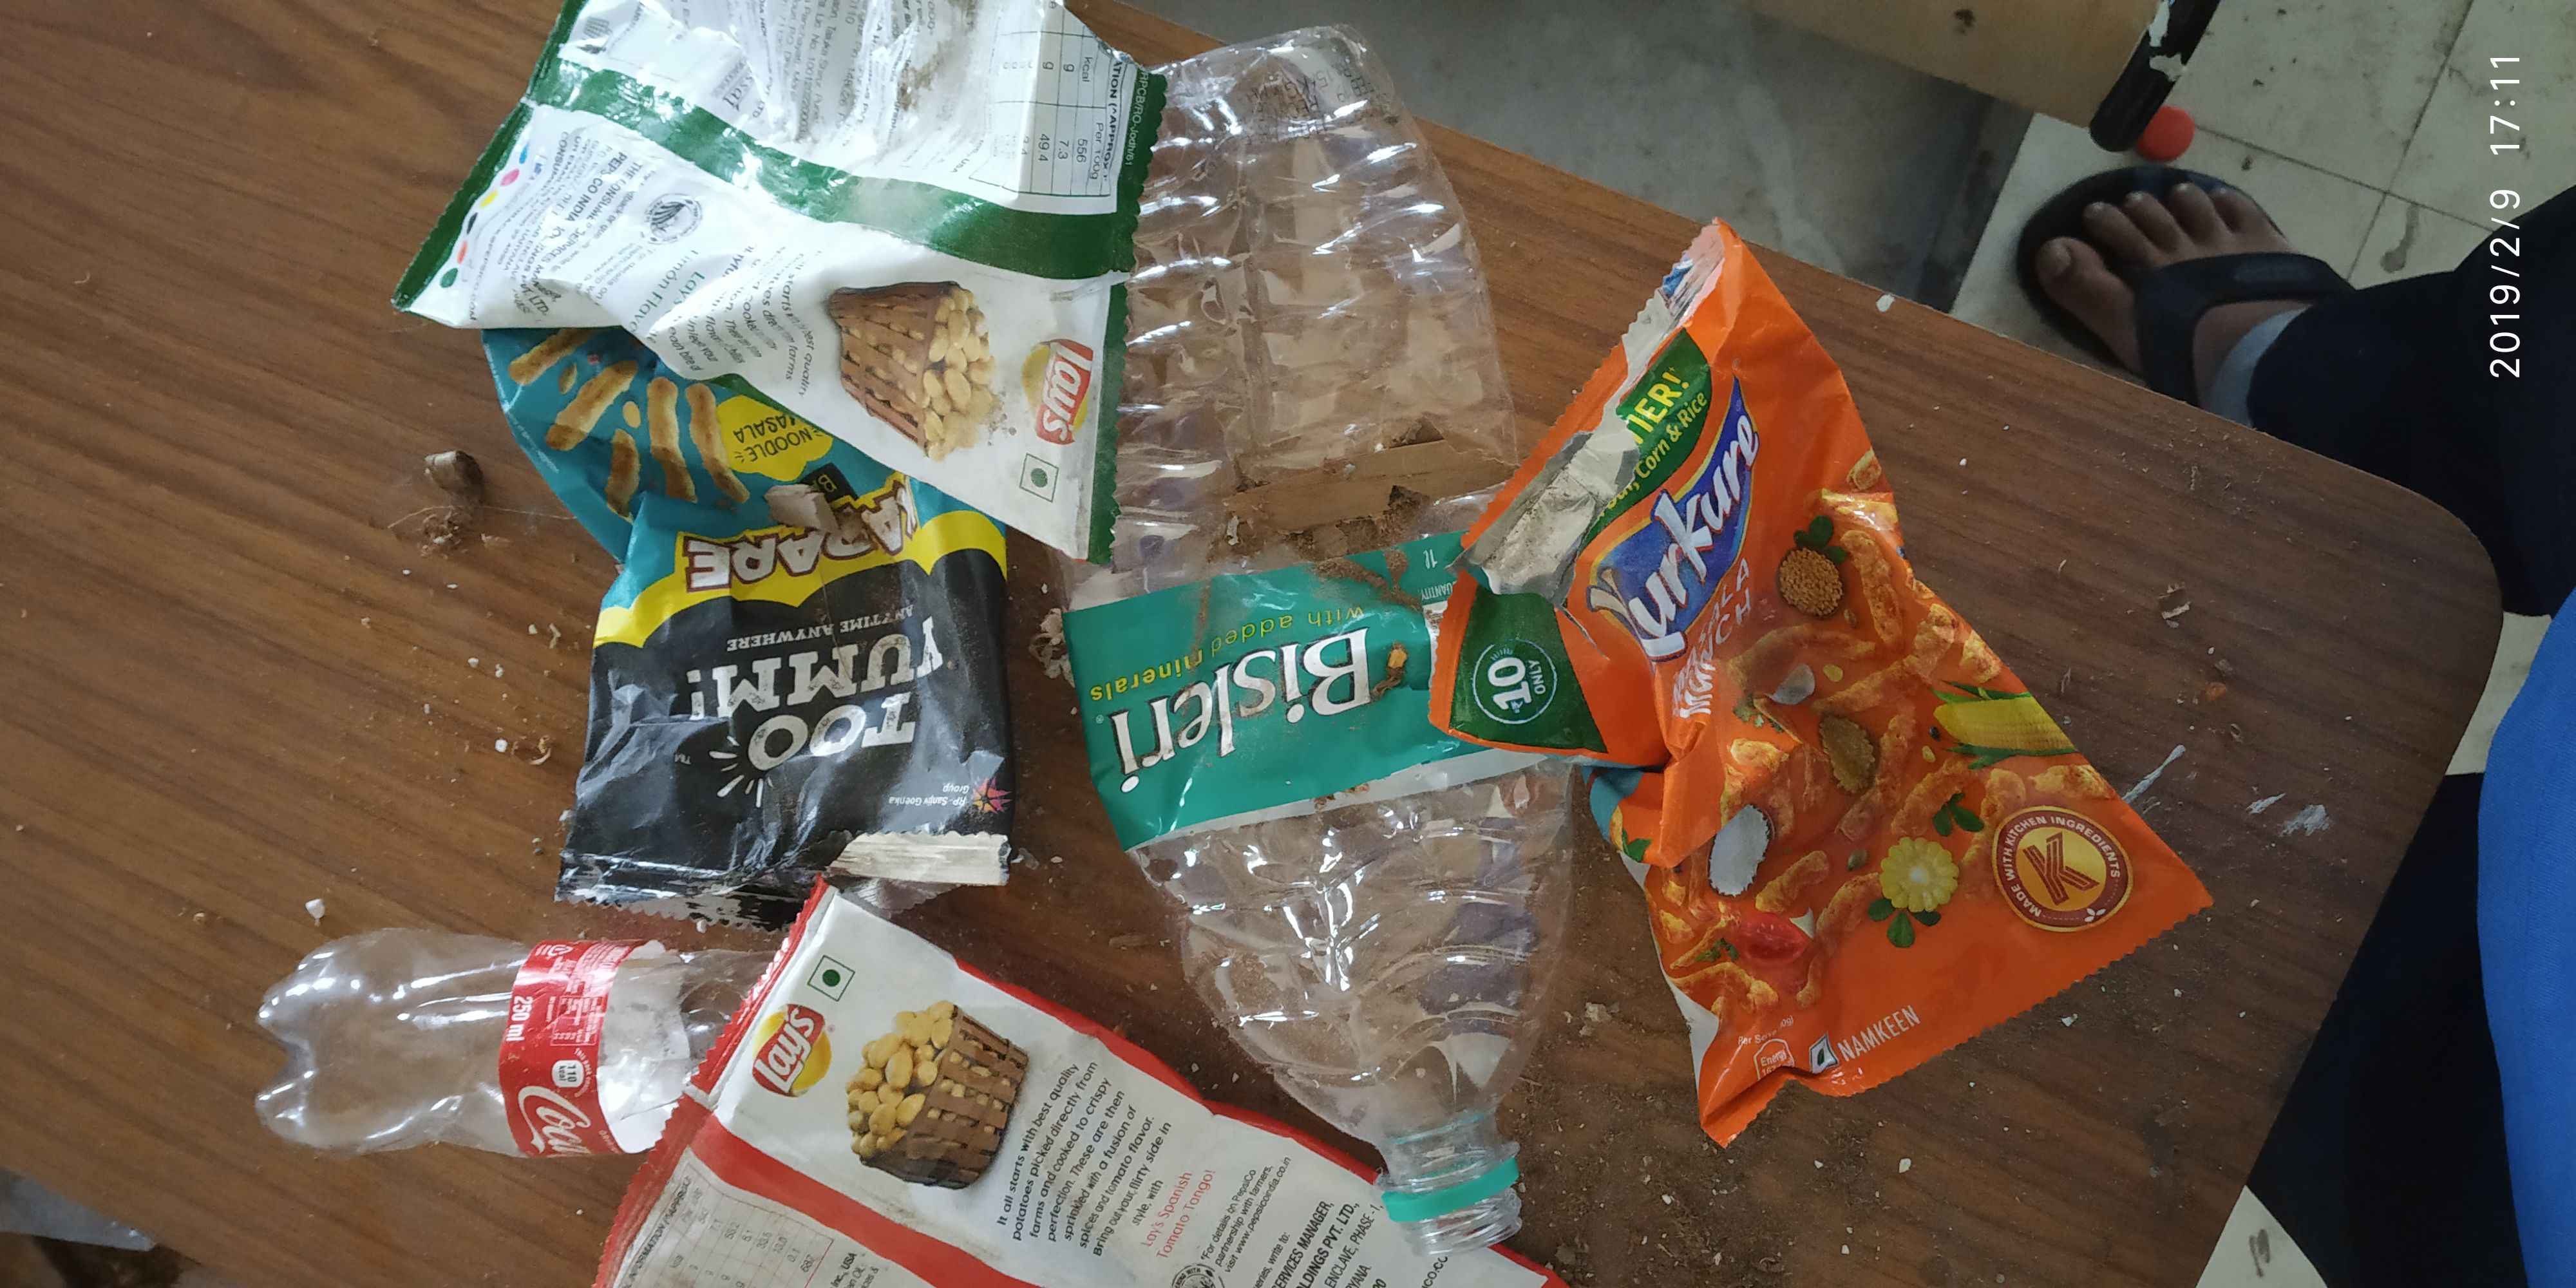Bisleri: (1120, 570, 1434, 833)
Coca-Cola: (506, 1053, 619, 1157)
Lays: (728, 991, 869, 1107), (1007, 314, 1102, 458)
kurkure: (1589, 350, 1774, 703)
tooyumm: (644, 598, 981, 785)
